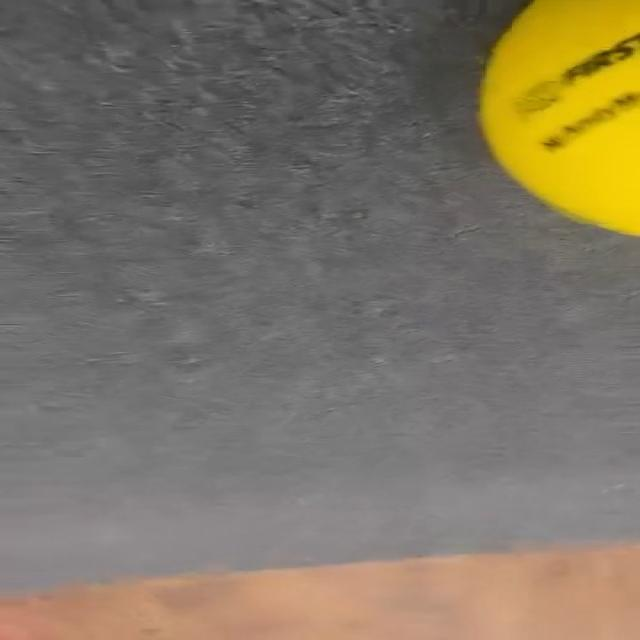Fuels: (482, 0, 638, 234)
